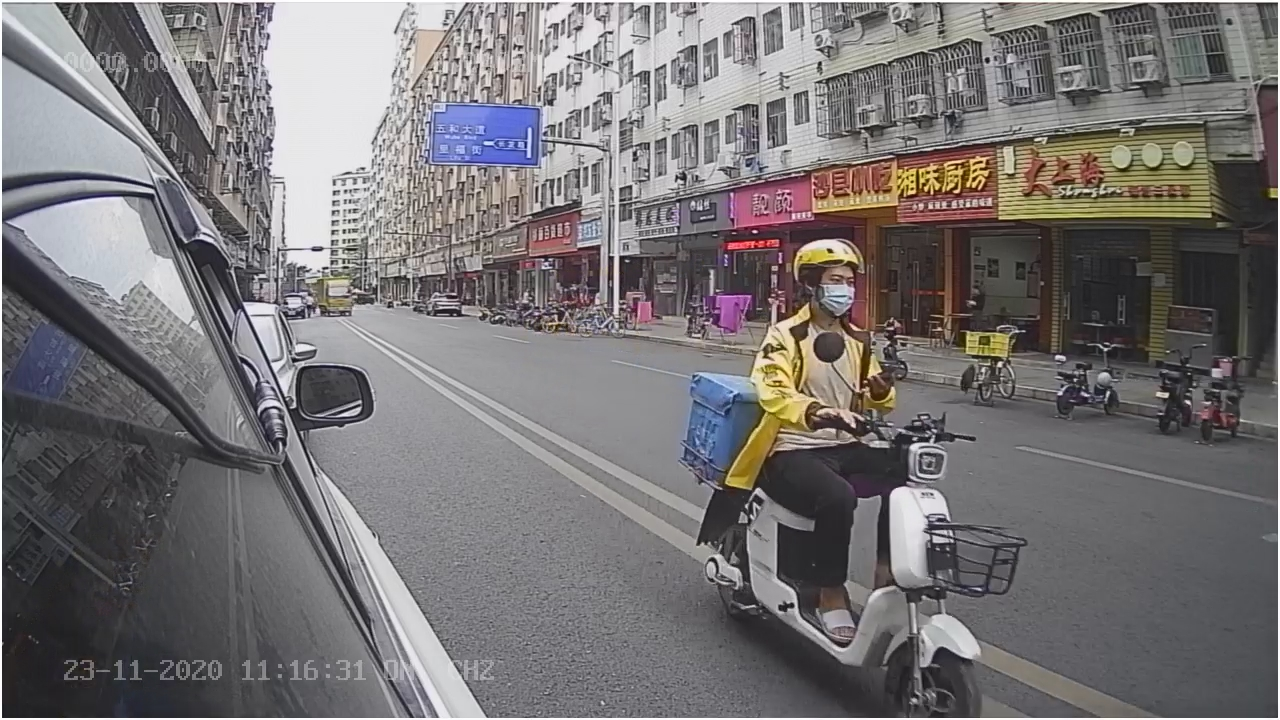person: (746, 236, 909, 412)
